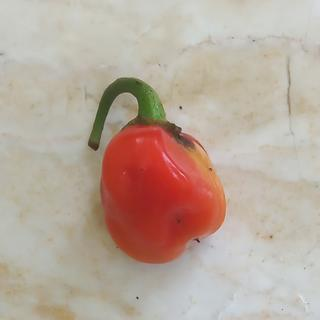Defect: (147, 119, 209, 159)
Fly-bites: (203, 163, 219, 180)
